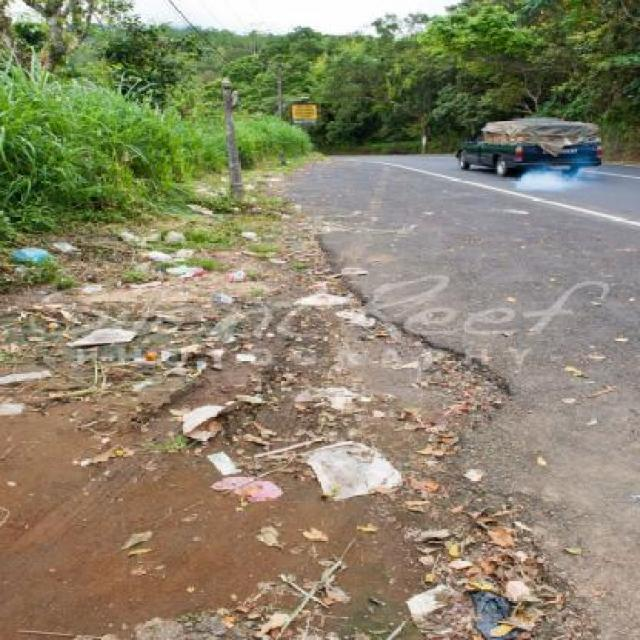garbage: (293, 434, 406, 517), (9, 231, 89, 272)
